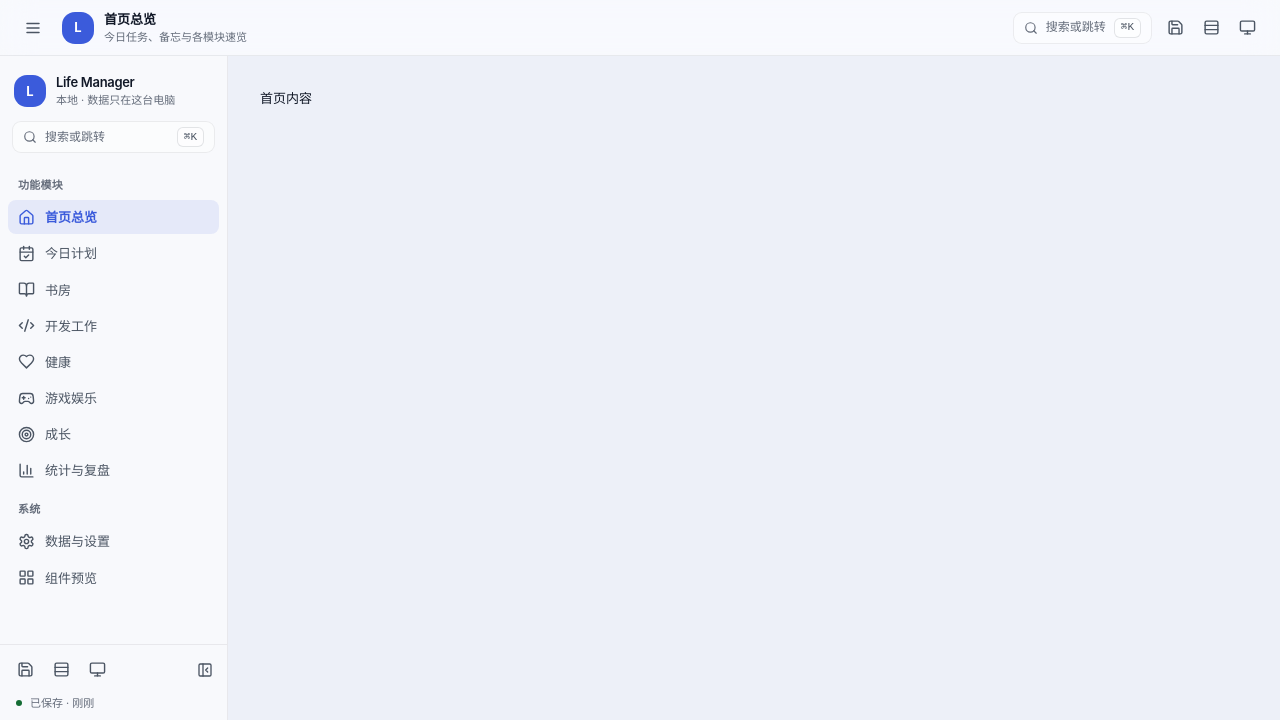
Test: Layout › 窄屏汉堡按钮能打开导航抽屉，选中后自动关闭
Click the button named "打开导航" at [33, 28], box x1=16 y1=10 x2=50 y2=44
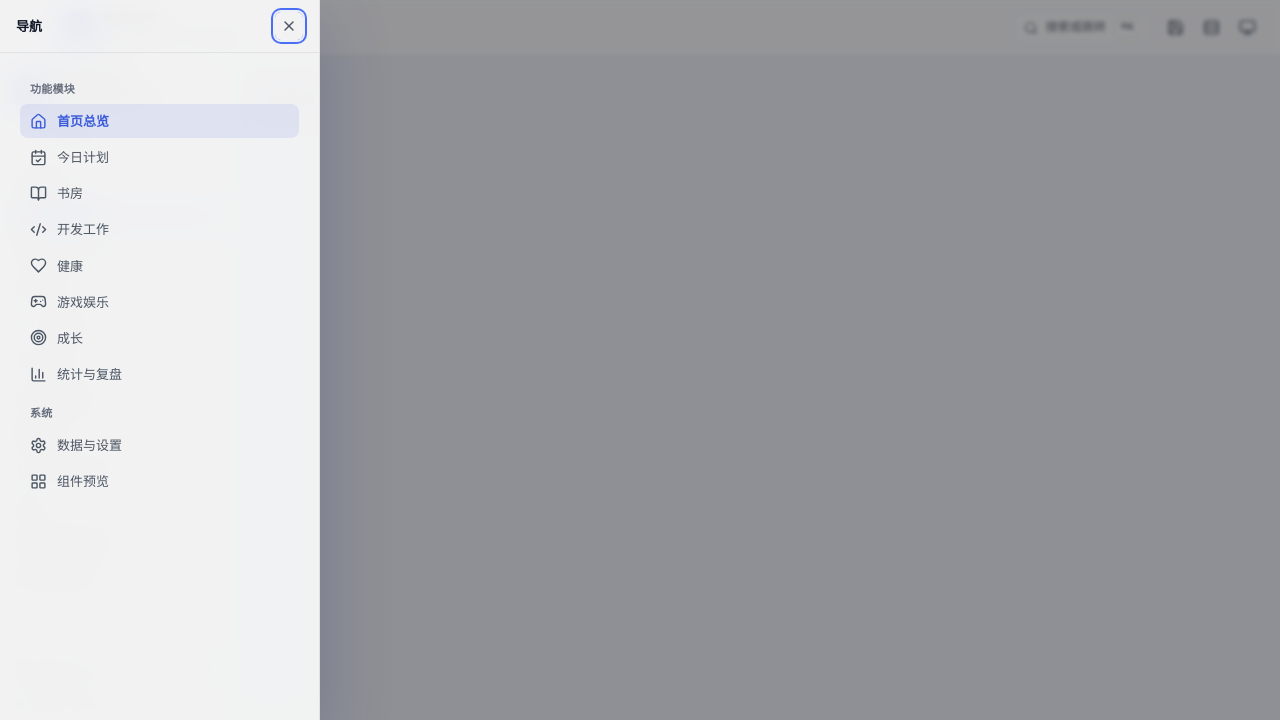
Now the dialog "导航" is shown, box x1=0 y1=0 x2=320 y2=719
Click the button "书房" at [38, 193], box x1=20 y1=176 x2=299 y2=210
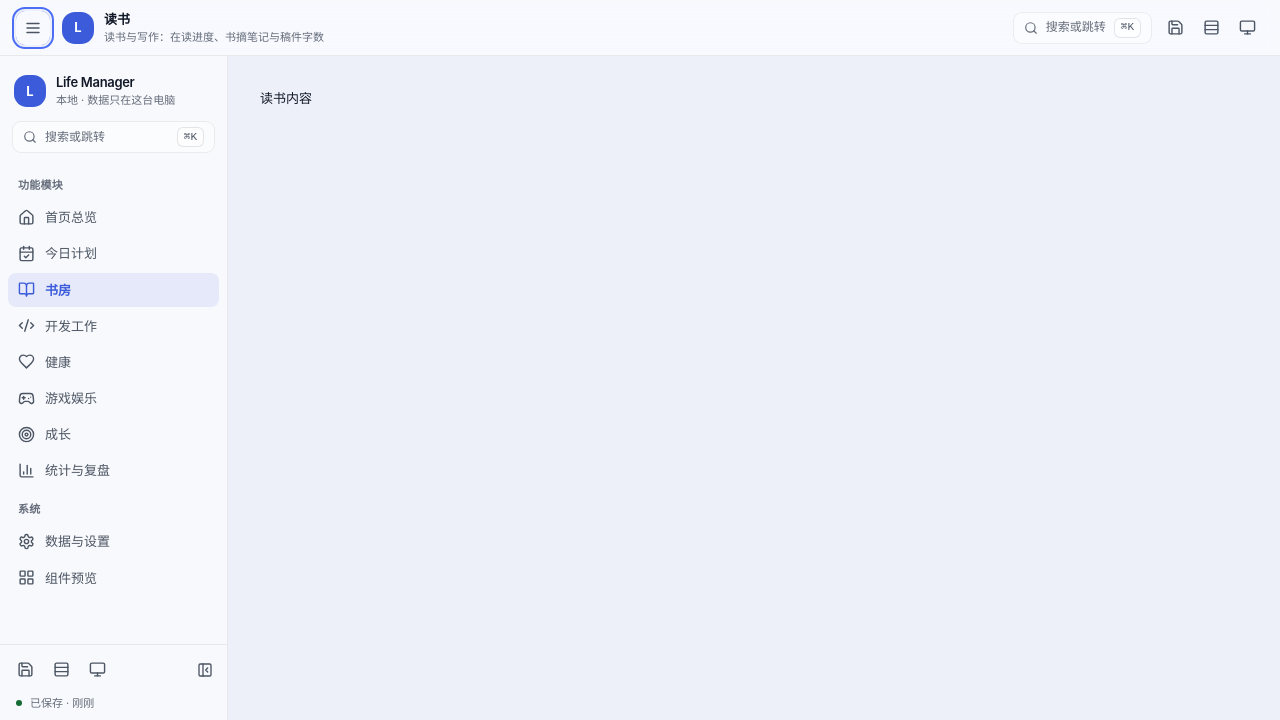
Now the heading "导航" is gone
Now the text "读书内容" is shown, box x1=260 y1=90 x2=312 y2=106
